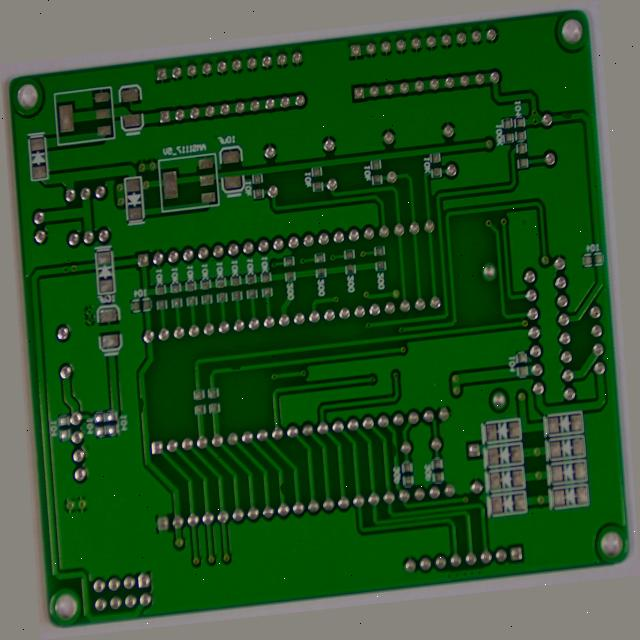mouse_bite: (118, 380, 132, 405), (260, 490, 274, 513), (384, 461, 395, 486), (218, 356, 235, 372), (590, 120, 604, 132)
